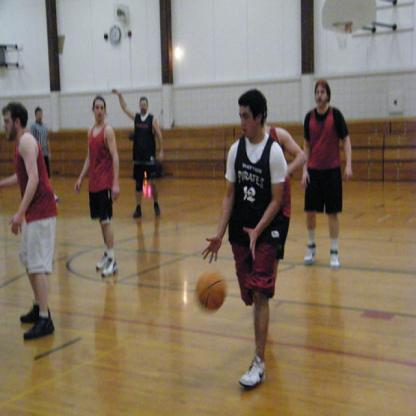basketball: (197, 274, 226, 311)
